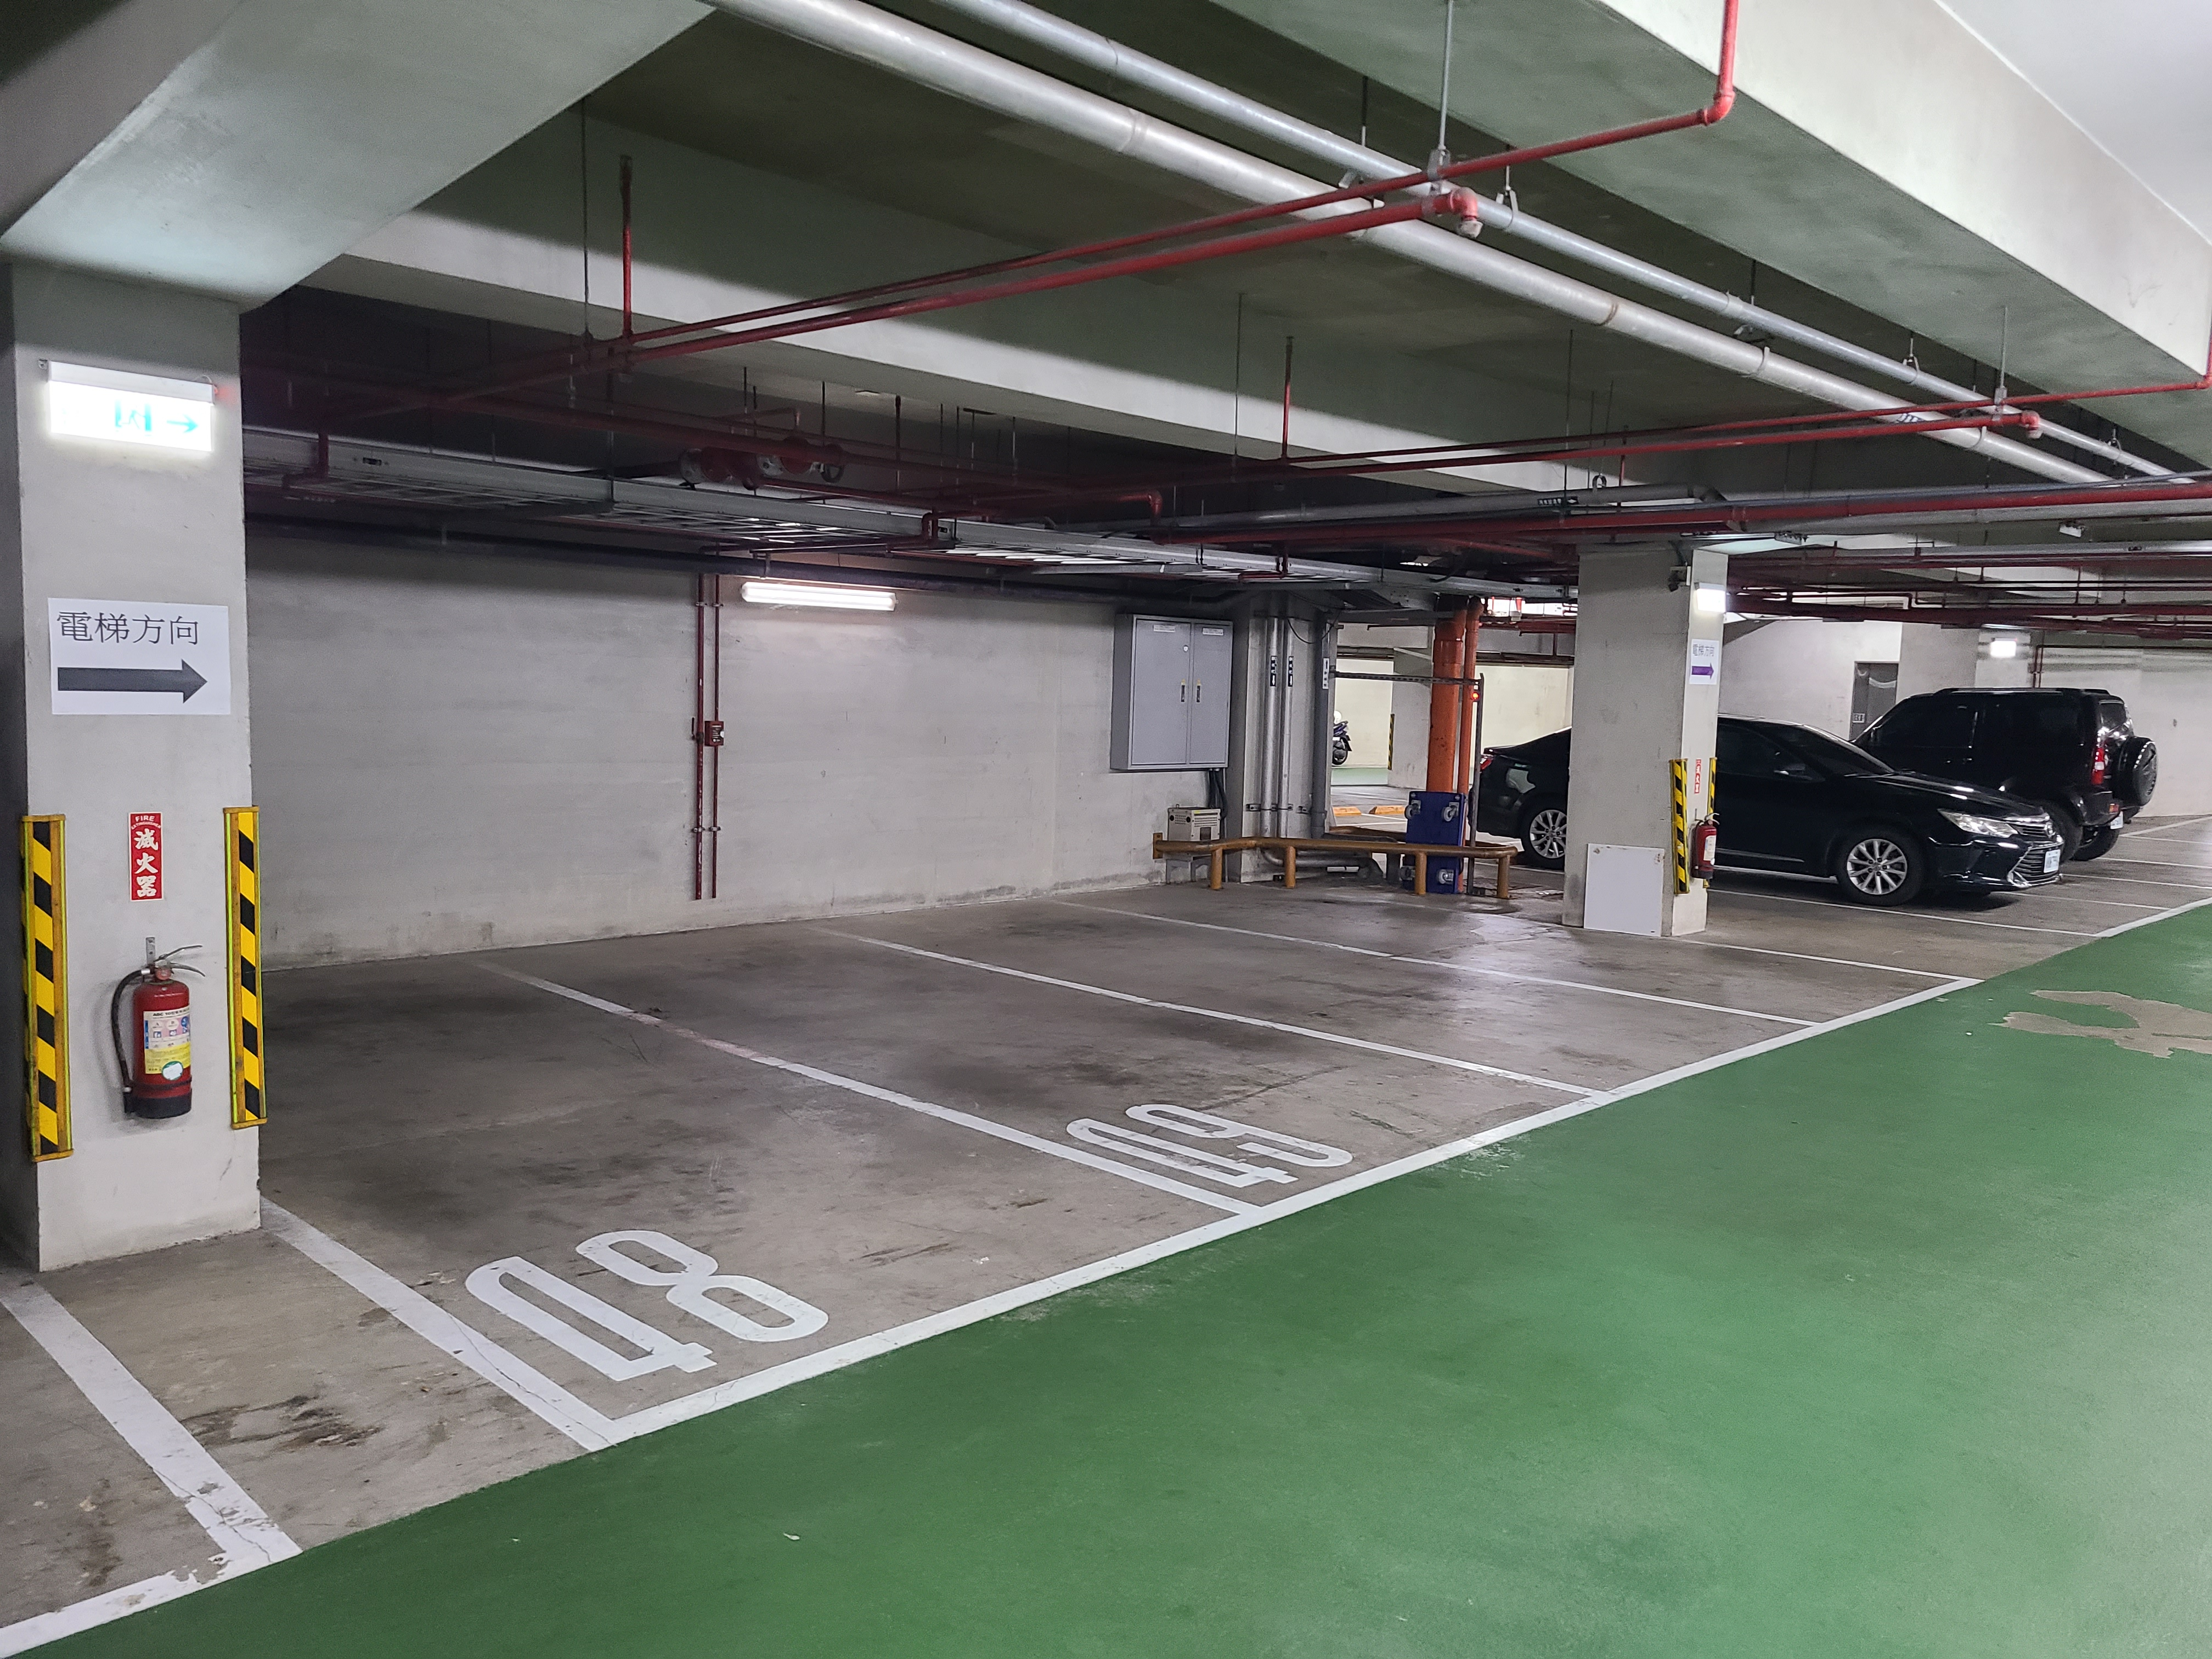car: (1707, 714, 2073, 910), (1892, 688, 2177, 836), (1479, 699, 1566, 873)
